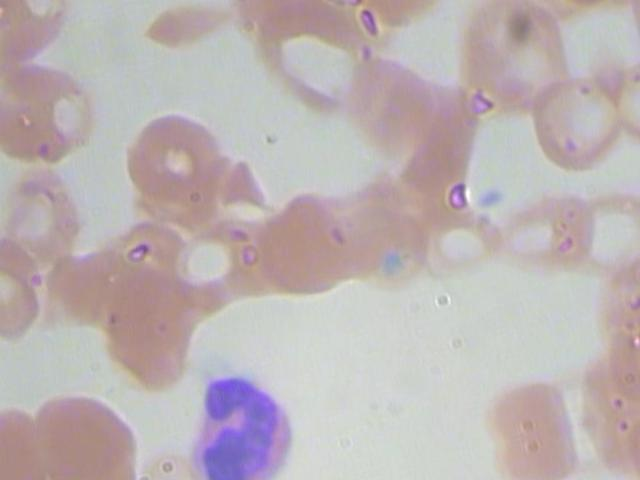RBC: (105, 89, 237, 219), (506, 60, 630, 185), (487, 165, 611, 290), (244, 180, 367, 305), (327, 44, 450, 168), (0, 51, 104, 179), (30, 377, 148, 480), (407, 188, 512, 290), (477, 362, 577, 445), (0, 0, 79, 74), (0, 400, 51, 480)
WBC: (0, 153, 111, 277)
